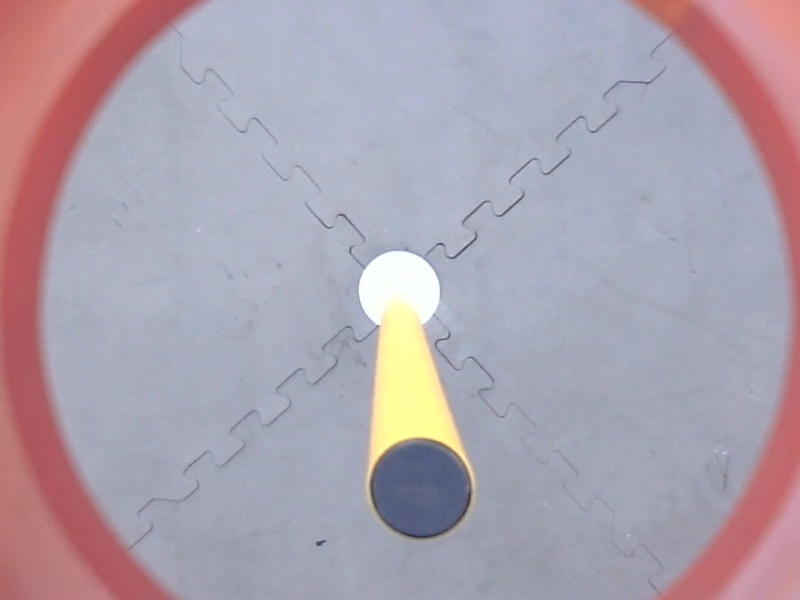tip: (361, 432, 482, 550)
